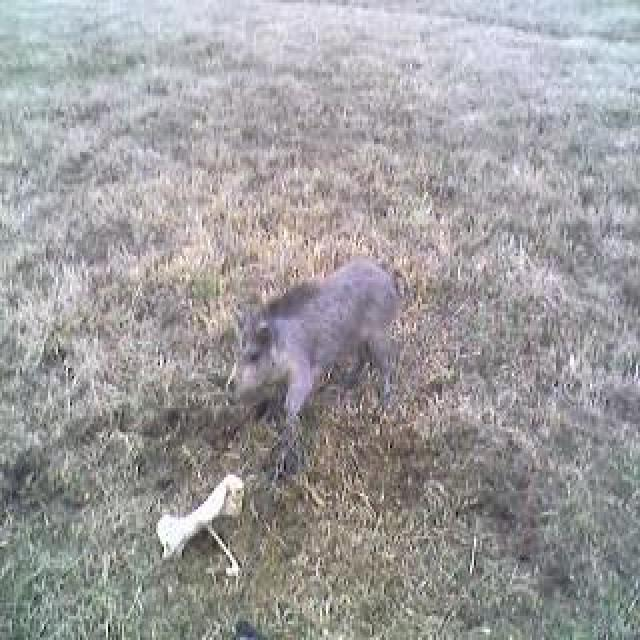boar: (207, 239, 423, 486)
